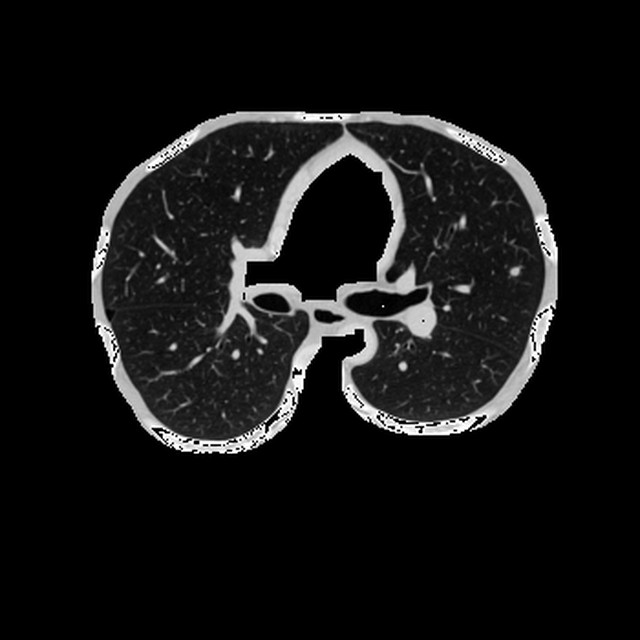PN: (510, 265, 521, 276)
